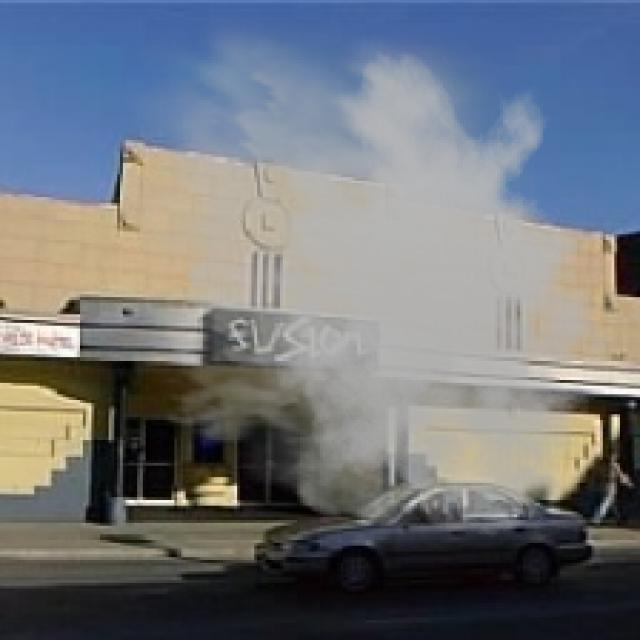smoke: (103, 3, 631, 537)
